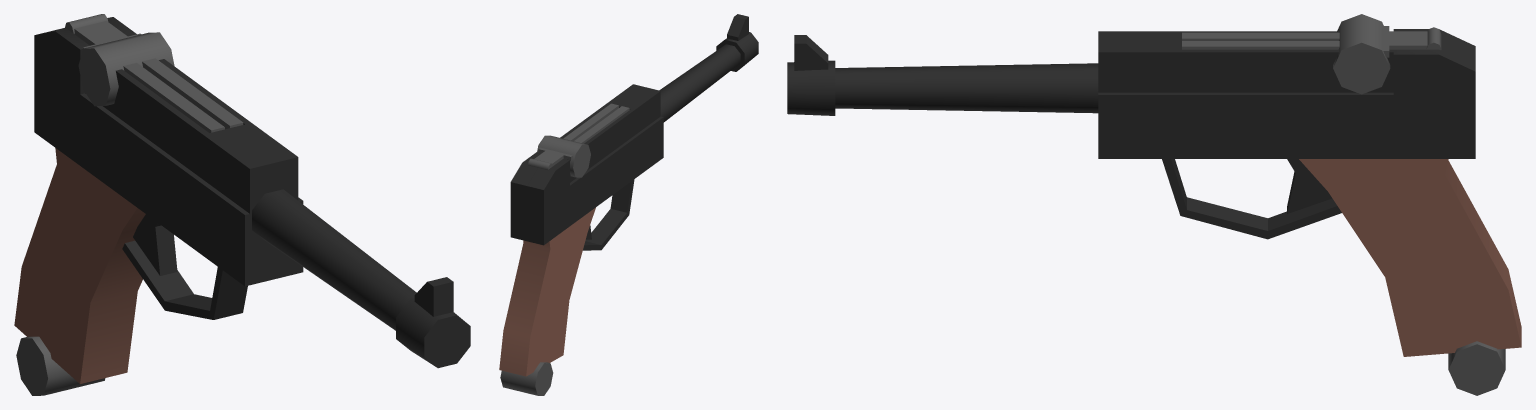
The picture shows the model from 3 angles, left to right: view 1: azimuth 30°, elevation 25°; view 2: azimuth 150°, elevation 25°; view 3: azimuth 270°, elevation 25°; orthographic projection. The views are drawn at different scales.
Visible parts, largest first — view 1: Lugar Body, Lugar Body.001, Lugar Body.002, Lugar Body Magazine, Cube.011; view 2: Lugar Body, Lugar Body.001, Lugar Body Magazine, Lugar Body.002; view 3: Lugar Body, Lugar Body.001, Lugar Body.002, Lugar Body Magazine, Cube.011.
Part boxes in pixels (box(x1,y1,x2,y2)): Lugar Body: box(14, 17, 470, 383); Lugar Body.001: box(65, 14, 174, 106); Lugar Body.002: box(123, 58, 243, 132); Lugar Body Magazine: box(16, 336, 105, 395); Cube.011: box(133, 214, 177, 275); Lugar Body: box(499, 14, 758, 376); Lugar Body.001: box(528, 135, 590, 177); Lugar Body Magazine: box(500, 362, 553, 395); Lugar Body.002: box(563, 103, 629, 143); Lugar Body: box(787, 29, 1521, 356); Lugar Body.001: box(1333, 14, 1441, 94); Lugar Body.002: box(1182, 32, 1339, 49); Lugar Body Magazine: box(1448, 341, 1505, 395); Cube.011: box(1287, 159, 1332, 213).
Bounding box in the file's own units: 0.0741 × 0.4266 × 0.8013.
